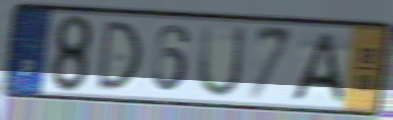6: (151, 22, 192, 95)
7: (249, 22, 296, 105)
8: (50, 12, 95, 95)
A: (287, 30, 346, 106)
D: (94, 19, 144, 92)
U: (195, 22, 249, 101)
